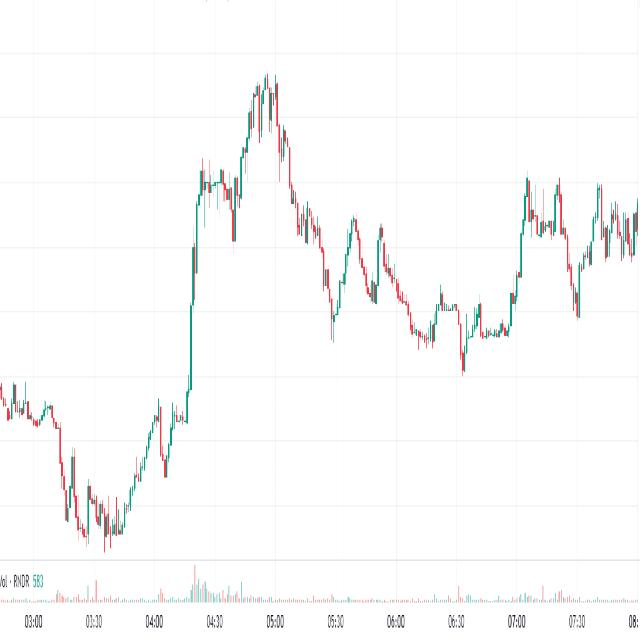Head-Shoulders: (183, 65, 337, 369)
